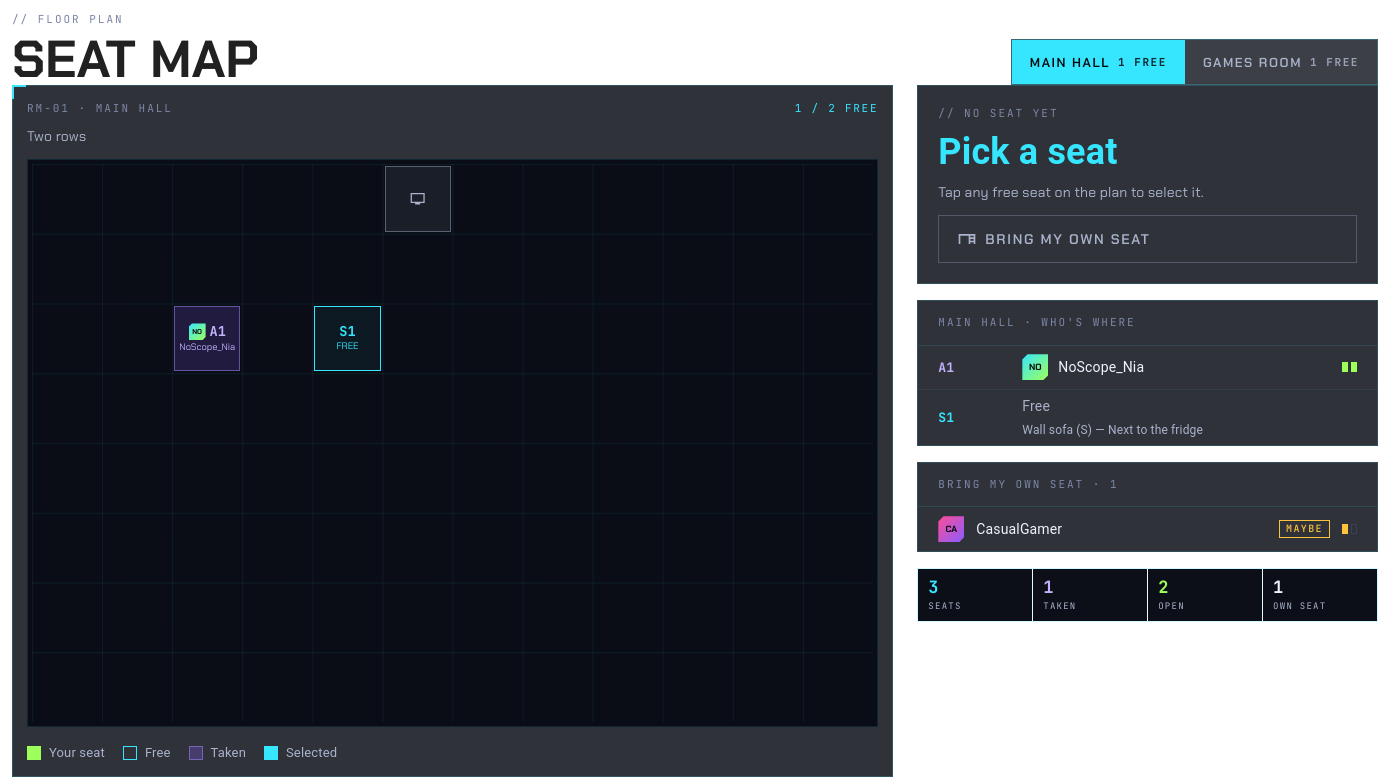
Scenario: EventSeatMap › names a seat in the claim panel, its accessible name and who's where
Click the button with aria-label "S1, Wall sofa (S), Next to the fridge, free".
click(347, 339)  # box [314,306,380,371]
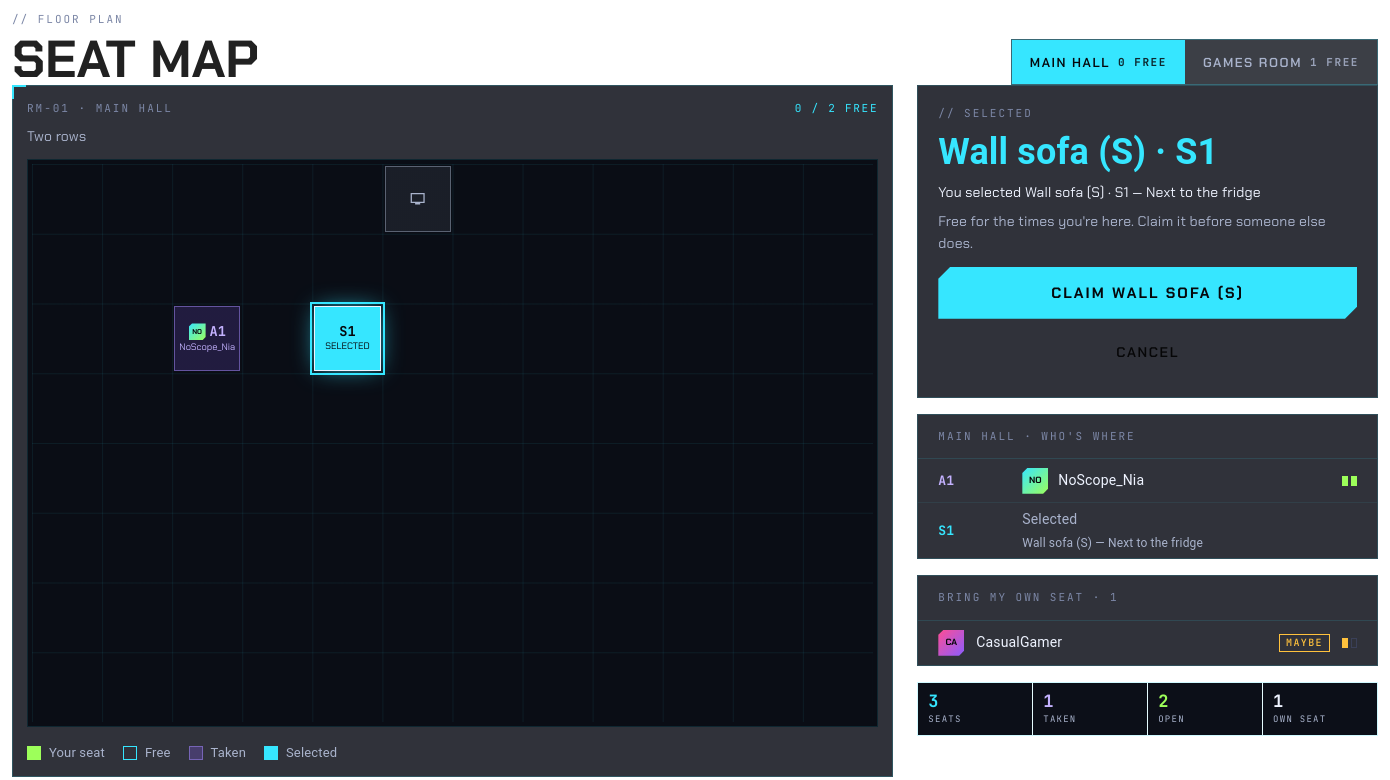
Expected: the text "Wall sofa (S) — Next to the fridge" is shown, [1022,536,1203,550]
Expected: the text "You selected Wall sofa (S) · S1 — Next to the fridge" is shown, [938,183,1261,201]
Click the button "Claim Wall sofa (S)".
click(1148, 293)  # box [938,267,1357,319]
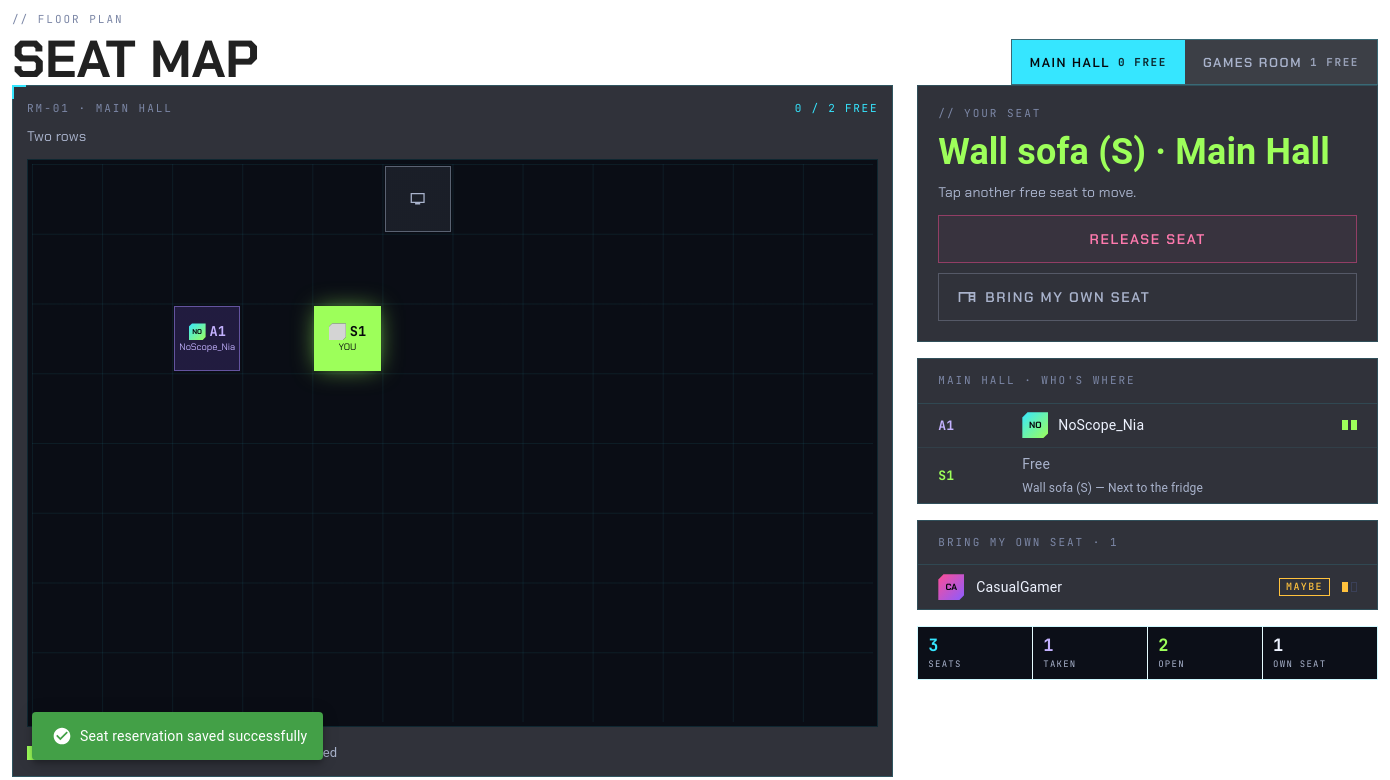
Expected: the text "Wall sofa (S) · Main Hall" is shown, [938,134,1357,170]
